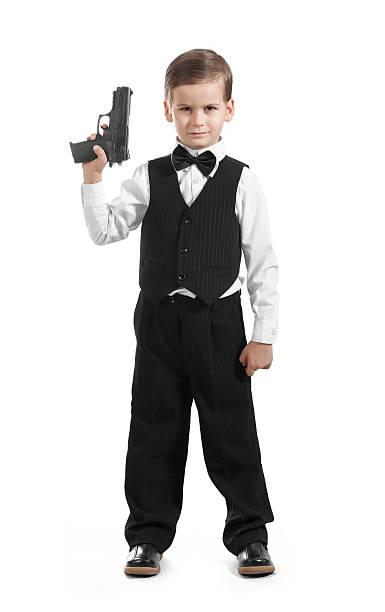weapon: (67, 80, 136, 170)
